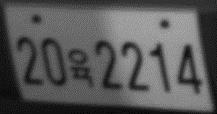0: (39, 36, 68, 86)
1: (146, 41, 176, 94)
2: (120, 40, 150, 92), (93, 39, 123, 90), (16, 35, 45, 86)
4: (176, 44, 203, 95)
육: (66, 47, 94, 87)
